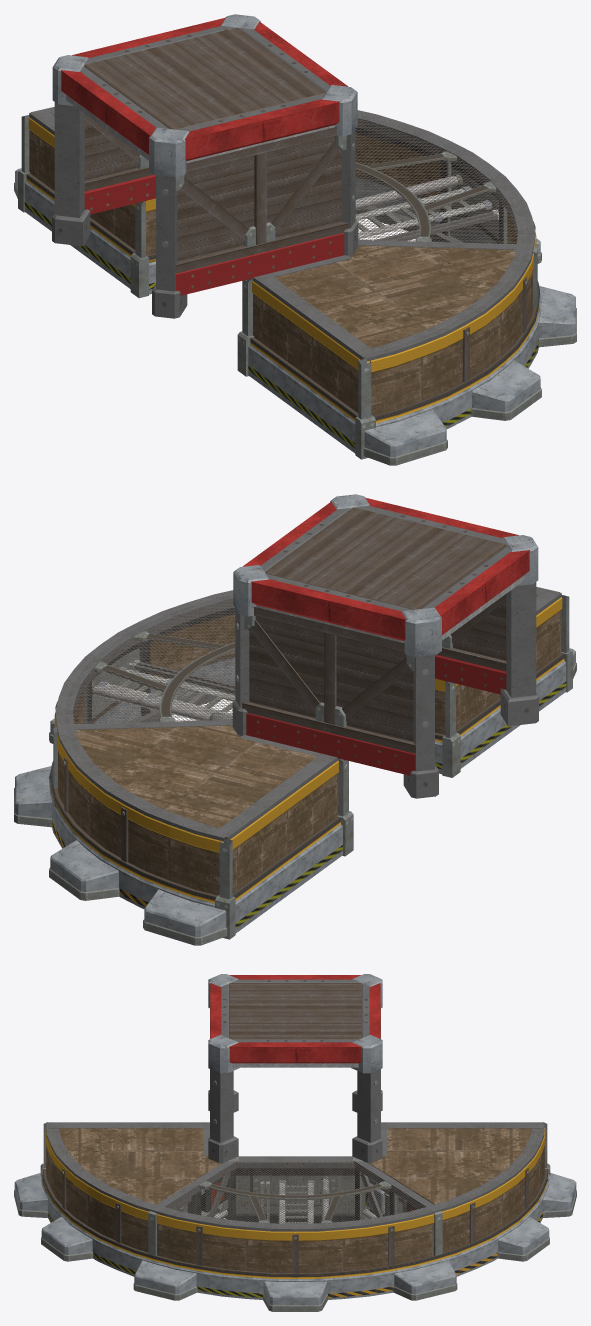
The model's file is Ob_PlatformHalfWheelHall_RC.fbx.
3 views of the same model, one above another, from view 1: azimuth 30°, elevation 25°; view 2: azimuth 150°, elevation 25°; view 3: azimuth 270°, elevation 25° (orthographic). The views are drawn at different scales.
Visible parts, largest first — view 1: Ob_PlatformHalfWheelHall_RC; view 2: Ob_PlatformHalfWheelHall_RC; view 3: Ob_PlatformHalfWheelHall_RC.
Boxes of the visible parts, <box> form: Ob_PlatformHalfWheelHall_RC: <box>14,14,576,465</box>; Ob_PlatformHalfWheelHall_RC: <box>14,494,576,945</box>; Ob_PlatformHalfWheelHall_RC: <box>14,974,576,1311</box>.
Size of the model in its own units: 3400 by 1941 by 5282.
